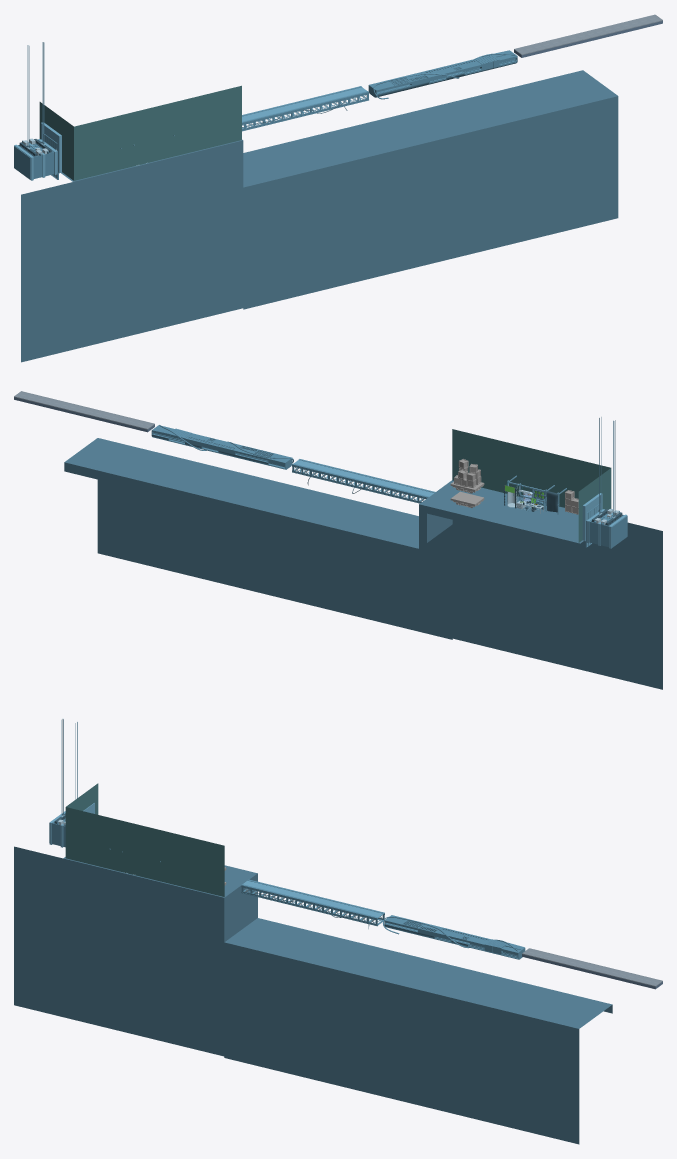
Rendered from Test_Cam.fbx.
3 views of the same model, one above another, from view 1: azimuth 30°, elevation 25°; view 2: azimuth 150°, elevation 25°; view 3: azimuth 330°, elevation 25° (orthographic). The views are drawn at different scales.
Visible parts, largest first — view 1: Sol, Elevator, Platform_high2, Platform1_high2, Platform3_high2, pPlane7, pPlane4, pPlane8, pPlane5, pPlane9, pPlane10, pPlane11 (+2 smaller); view 2: Sol, Elevator, Platform1_high2, Platform_high2, Platform3_high2, Workshop_1_op, pPlane9, pPlane8, pPlane7, pPlane10, pPlane6, pPlane11 (+2 smaller); view 3: Sol, Platform1_high2, Platform_high2, Platform3_high2, pPlane11, pPlane7, pPlane4, pPlane5, pPlane6, pPlane9, pPlane8, pPlane10 (+1 smaller).
Boxes of the visible parts, left/top/right/bottom form: Sol: left=21, top=70, right=618, bottom=362; Elevator: left=14, top=42, right=61, bottom=180; Platform_high2: left=368, top=50, right=517, bottom=99; Platform1_high2: left=242, top=86, right=369, bottom=131; Platform3_high2: left=514, top=14, right=662, bottom=57; pPlane7: left=116, top=111, right=136, bottom=170; pPlane4: left=74, top=121, right=94, bottom=180; pPlane8: left=158, top=101, right=178, bottom=160; pPlane5: left=95, top=116, right=115, bottom=175; pPlane9: left=179, top=96, right=199, bottom=155; pPlane10: left=200, top=91, right=220, bottom=149; pPlane11: left=221, top=85, right=241, bottom=144; Sol: left=64, top=438, right=662, bottom=689; Elevator: left=582, top=417, right=627, bottom=548; Platform1_high2: left=292, top=459, right=435, bottom=503; Platform_high2: left=151, top=425, right=293, bottom=469; Platform3_high2: left=14, top=391, right=154, bottom=432; Workshop_1_op: left=504, top=480, right=559, bottom=514; pPlane9: left=492, top=438, right=511, bottom=493; pPlane8: left=512, top=443, right=531, bottom=497; pPlane7: left=551, top=453, right=571, bottom=507; pPlane10: left=472, top=434, right=491, bottom=489; pPlane6: left=532, top=448, right=551, bottom=498; pPlane11: left=452, top=429, right=472, bottom=480; Sol: left=14, top=846, right=612, bottom=1144; Platform1_high2: left=241, top=879, right=384, bottom=928; Platform_high2: left=383, top=915, right=525, bottom=959; Platform3_high2: left=522, top=948, right=662, bottom=989; pPlane11: left=204, top=841, right=224, bottom=896; pPlane7: left=105, top=816, right=125, bottom=872; pPlane4: left=65, top=807, right=85, bottom=862; pPlane5: left=85, top=812, right=105, bottom=867; pPlane6: left=125, top=821, right=144, bottom=877; pPlane9: left=165, top=831, right=184, bottom=887; pPlane8: left=145, top=826, right=164, bottom=882; pPlane10: left=185, top=836, right=204, bottom=891.
Size of the model in its own units: 9433 by 4027 by 875.
